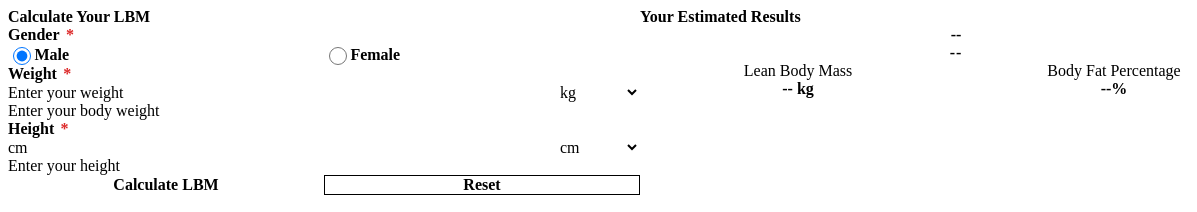
Test case: LeanBodyMassCalculator › computes the source Boer formula for women end-to-end
Click the radio button labelled "Female": [338, 56] box [329,47,347,65]
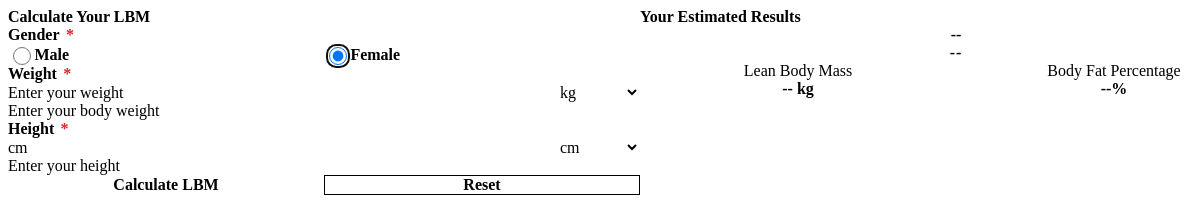
In the number field labelled "weight": [282, 93] box [8,83,556,102], type "80"
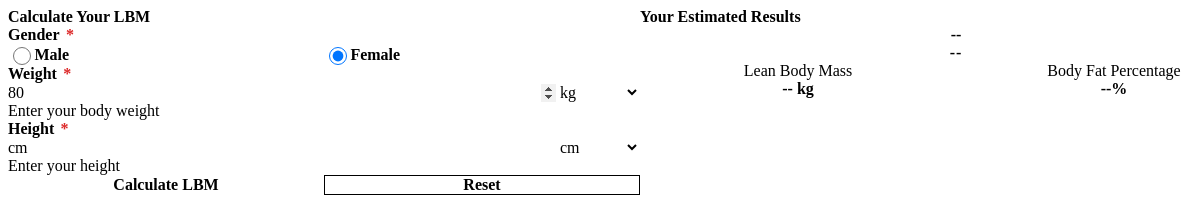
In the number field named "Height": [282, 148] box [8,138,556,157], type "180"
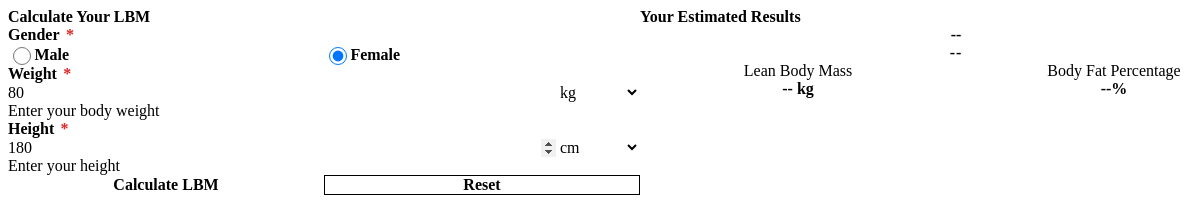
Click the button "Calculate LBM": [166, 185] box [8,175,324,195]
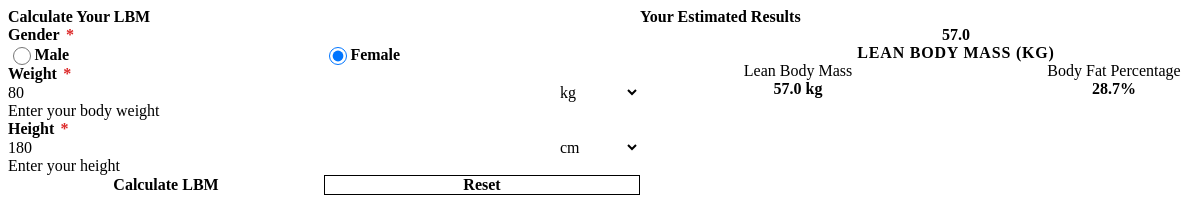
Now the element "Your Estimated Results" shows "57.0 kg", box [774,80,822,97]
Now the element "Your Estimated Results" shows "28.7%", box [1092,80,1136,97]
